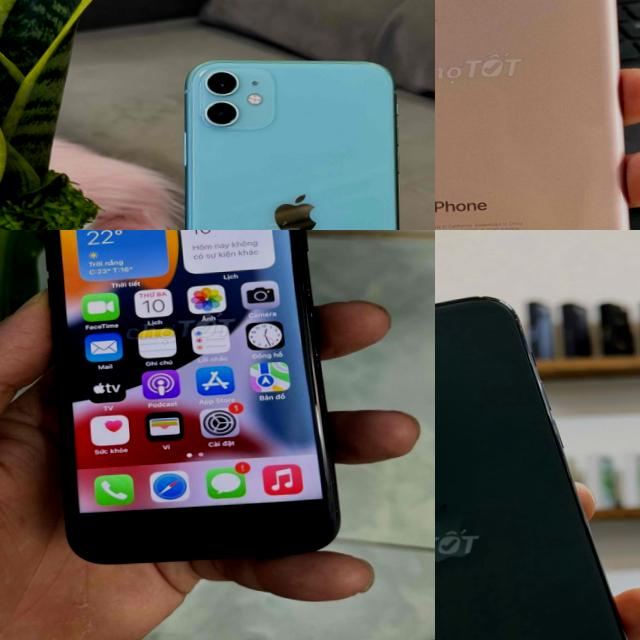gen_11: (435, 281, 640, 640), (165, 48, 414, 230)
gen_7_8: (22, 230, 347, 569), (435, 0, 628, 230)
scratch: (318, 464, 342, 527), (471, 286, 504, 310), (519, 370, 556, 390), (502, 306, 524, 336), (435, 5, 449, 28)
